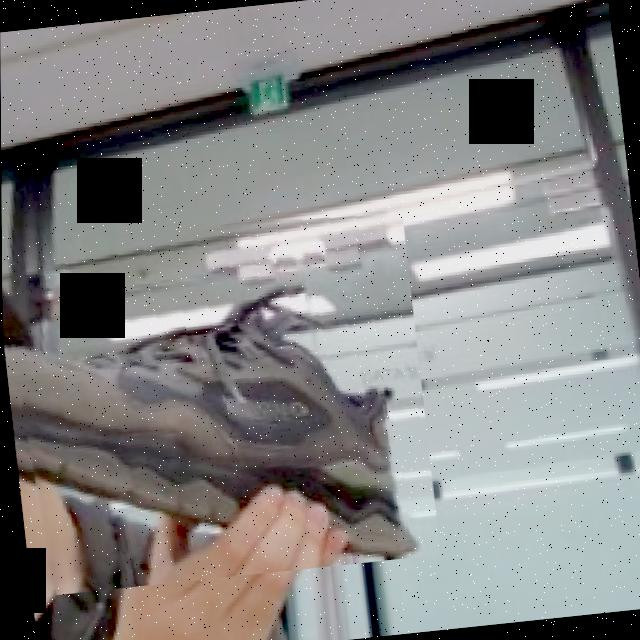shoe: (1, 197, 439, 597)
